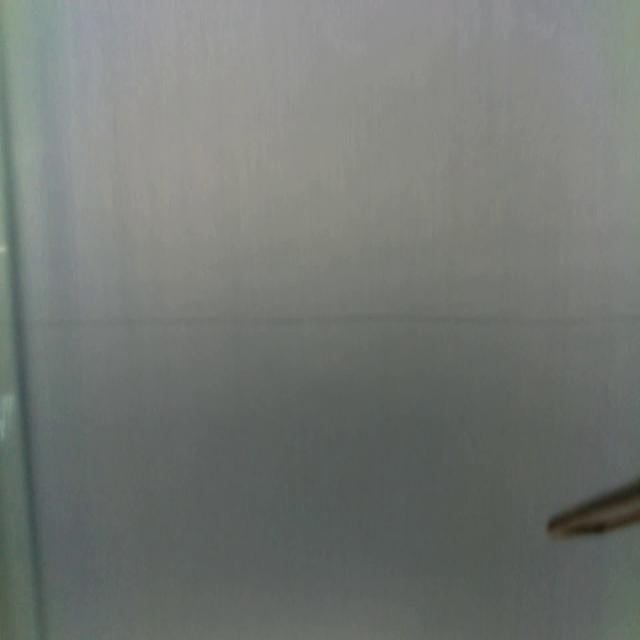color bleeding: (1, 303, 640, 331)
